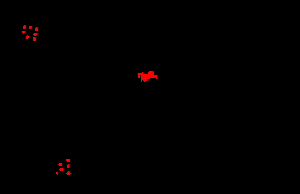Target: (138, 71, 157, 82), (66, 171, 71, 175), (23, 25, 26, 29), (35, 27, 38, 31), (33, 33, 37, 36), (26, 35, 29, 39), (33, 37, 36, 41), (66, 159, 70, 162), (58, 163, 62, 166), (59, 168, 63, 171), (29, 26, 32, 29), (22, 31, 25, 34), (67, 164, 69, 168), (56, 172, 58, 175)
